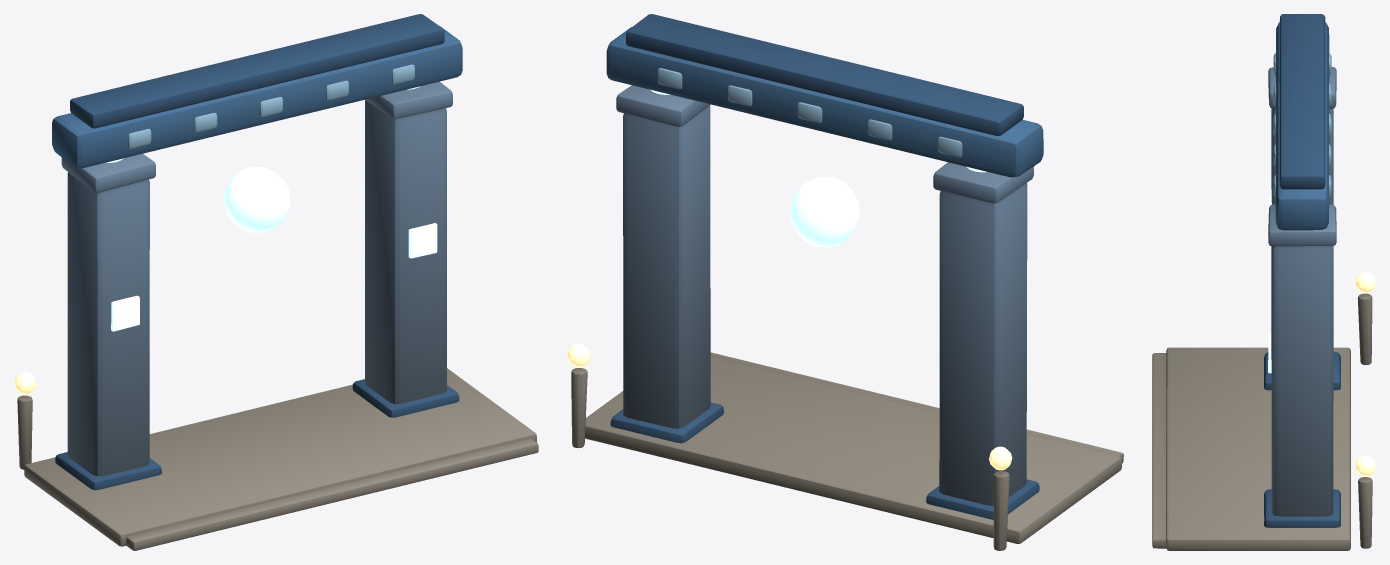
3 views of the same model, side by side, from view 1: azimuth 30°, elevation 25°; view 2: azimuth 150°, elevation 25°; view 3: azimuth 270°, elevation 25° (orthographic). The views are drawn at different scales.
Parts seen in each view (by area): view 1: gate_aa9999f1; view 2: gate_aa9999f1; view 3: gate_aa9999f1.
Part boxes in pixels (x1,y1,x2,y2): gate_aa9999f1: (14,14,538,550); gate_aa9999f1: (567,14,1123,550); gate_aa9999f1: (1152,14,1375,550).
Bounding box in the file's own units: 5.2 × 4.54 × 2.54.
